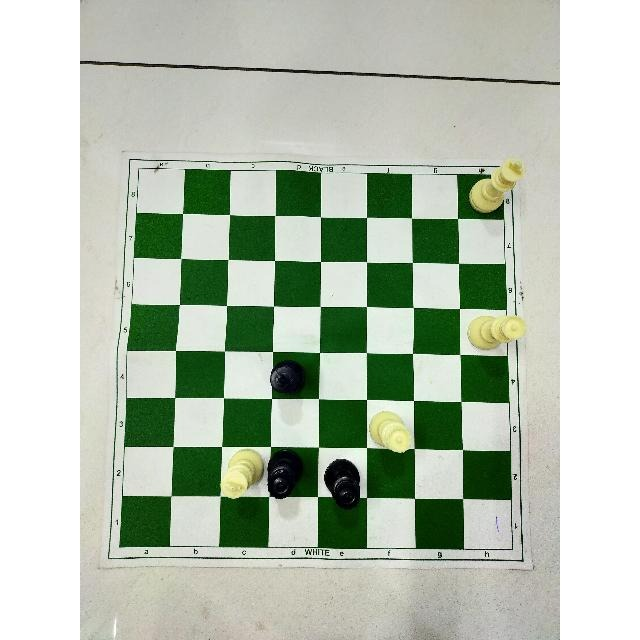black-king: (270, 358, 306, 398)
black-queen: (266, 444, 304, 501), (321, 458, 362, 510)
white-king: (463, 156, 527, 215), (218, 448, 266, 502)
white-queen: (467, 314, 526, 350), (368, 409, 413, 456)
